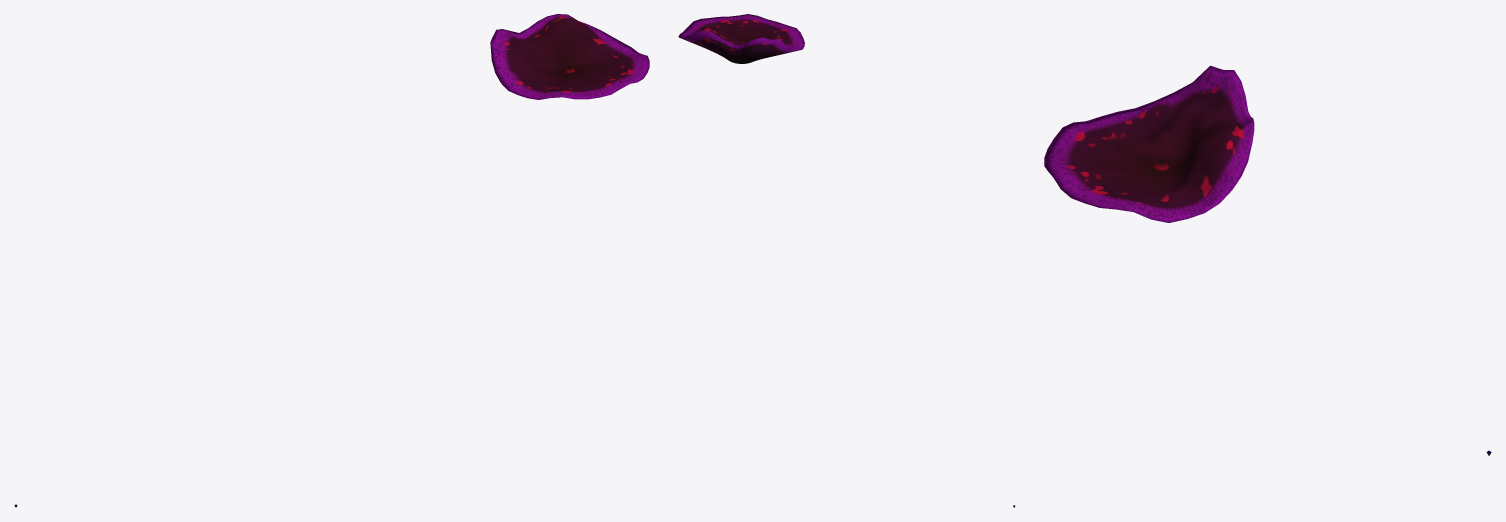
File: elephant_ear.glb
3 views of the same model, side by side, from view 1: azimuth 30°, elevation 25°; view 2: azimuth 150°, elevation 25°; view 3: azimuth 270°, elevation 25° (orthographic). The views are drawn at different scales.
Parts seen in each view (by area): view 1: Body; view 2: Body; view 3: Body.
Boxes of the visible parts, <box> form: Body: <box>490,14,649,99</box>; Body: <box>678,14,804,63</box>; Body: <box>1044,65,1254,222</box>.
Bounding box in the file's own units: 47.56 × 38.28 × 22.38.
2 materials, 2 textured.
